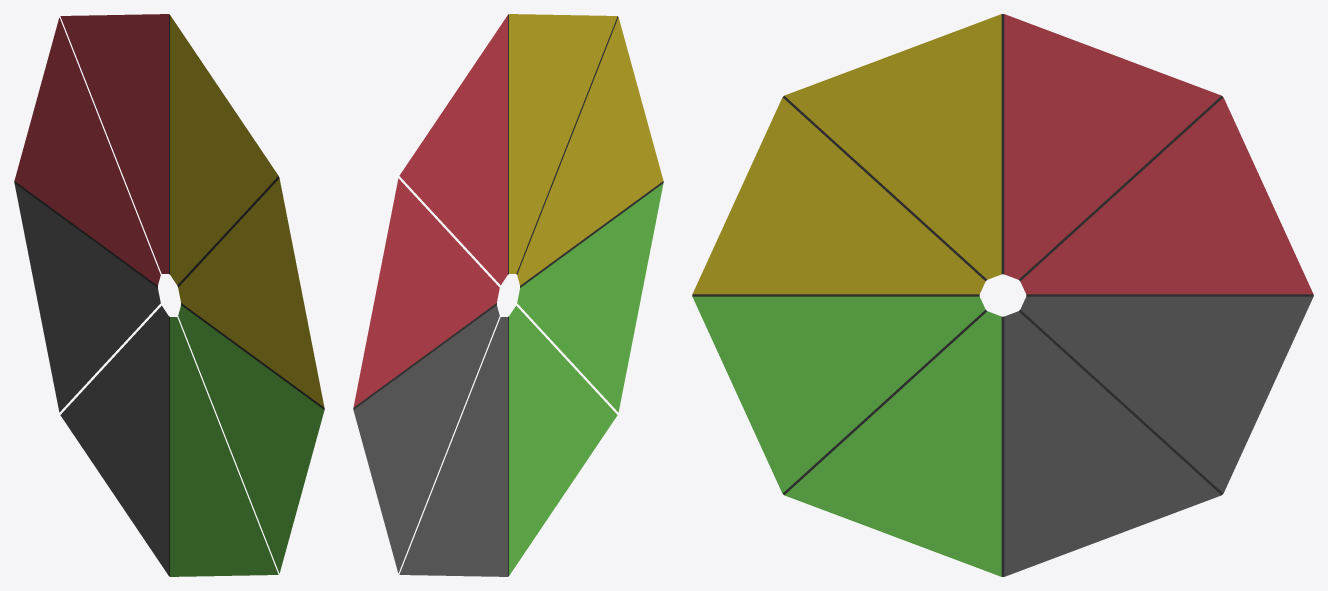
The model's file is DialGaguefixed.fbx.
3 renders of one model, left to right at view 1: azimuth 30°, elevation 25°; view 2: azimuth 150°, elevation 25°; view 3: azimuth 270°, elevation 25°, orthographic.
Parts seen in each view (by area): view 1: Gague; view 2: Gague; view 3: Gague.
Boxes of the visible parts, left/top/right/bottom form: Gague: left=14, top=14, right=324, bottom=576; Gague: left=353, top=14, right=663, bottom=576; Gague: left=692, top=14, right=1313, bottom=576.
Size of the model in its own units: 3.28e-05 by 200 by 200.
